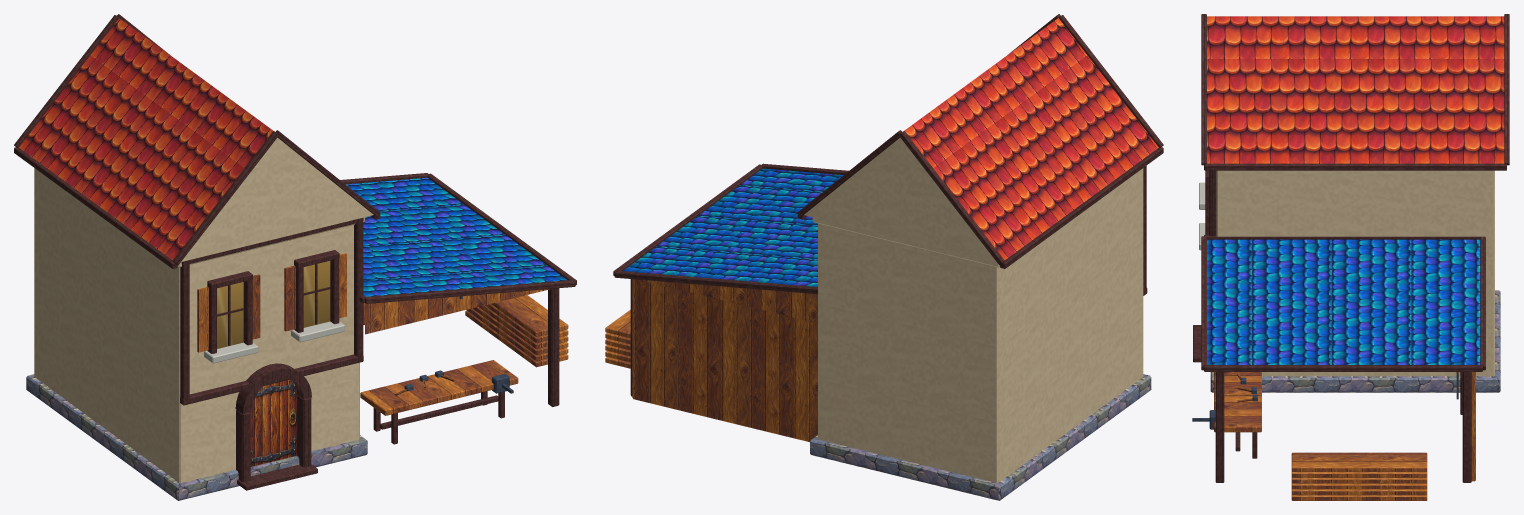
File: WorkshopHouse.fbx
3 views of the same model, side by side, from view 1: azimuth 30°, elevation 25°; view 2: azimuth 150°, elevation 25°; view 3: azimuth 270°, elevation 25° (orthographic). The views are drawn at different scales.
Visible parts, largest first — view 1: Craftsman dwelling walls, Craftsman dwelling roof, Attached carpentry shed roof, Craftsman dwelling foundation, Workshop bench top, Heavy oak entrance.003, Attached carpentry shed roof gable ends, Attached carpentry shed roof verge, Glass pane.027, Eaves fascia.012, Load-bearing arch voussoirs.003, Glass pane.026 (+21 smaller); view 2: Craftsman dwelling walls, Craftsman dwelling roof, Carpentry workshop rear wall, Attached carpentry shed roof, Craftsman dwelling foundation, Attached carpentry shed roof gable ends, Attached carpentry shed roof verge.001, Eaves fascia.012, Gable bargeboard.022, Attached carpentry shed roof eave.001, Craftsman dwelling cornice, Gable bargeboard.020 (+1 smaller); view 3: Craftsman dwelling roof, Attached carpentry shed roof, Craftsman dwelling walls, Craftsman dwelling foundation, Seasoned carpentry stock.005, Eaves fascia.013, Workshop bench top, Attached carpentry shed roof eave.001, Attached carpentry shed roof eave, Carpentry shed roof post.001, Carpentry shed roof post, Seasoned carpentry stock.001 (+10 smaller).
Boxes of the visible parts, bbox=[...] form: Craftsman dwelling walls: bbox=[34, 168, 359, 482]; Craftsman dwelling roof: bbox=[19, 18, 373, 261]; Attached carpentry shed roof: bbox=[346, 177, 567, 296]; Craftsman dwelling foundation: bbox=[26, 374, 367, 500]; Workshop bench top: bbox=[360, 360, 518, 415]; Heavy oak entrance.003: bbox=[250, 379, 297, 466]; Attached carpentry shed roof gable ends: bbox=[365, 289, 550, 334]; Attached carpentry shed roof verge: bbox=[364, 280, 575, 303]; Glass pane.027: bbox=[303, 261, 330, 327]; Eaves fascia.012: bbox=[14, 147, 177, 268]; Load-bearing arch voussoirs.003: bbox=[235, 363, 311, 414]; Glass pane.026: bbox=[217, 282, 243, 348]; Craftsman dwelling walls: bbox=[818, 168, 1143, 482]; Craftsman dwelling roof: bbox=[804, 18, 1158, 261]; Carpentry workshop rear wall: bbox=[632, 279, 817, 442]; Attached carpentry shed roof: bbox=[622, 168, 843, 286]; Craftsman dwelling foundation: bbox=[810, 374, 1151, 500]; Attached carpentry shed roof gable ends: bbox=[639, 279, 817, 323]; Attached carpentry shed roof verge.001: bbox=[614, 270, 817, 294]; Eaves fascia.012: bbox=[1000, 147, 1163, 268]; Gable bargeboard.022: bbox=[899, 131, 1004, 265]; Attached carpentry shed roof eave.001: bbox=[613, 164, 762, 275]; Craftsman dwelling cornice: bbox=[812, 217, 999, 267]; Gable bargeboard.020: bbox=[1059, 15, 1163, 147]; Craftsman dwelling roof: bbox=[1207, 16, 1504, 163]; Attached carpentry shed roof: bbox=[1207, 239, 1480, 364]; Craftsman dwelling walls: bbox=[1216, 170, 1494, 376]; Craftsman dwelling foundation: bbox=[1210, 290, 1500, 392]; Seasoned carpentry stock.005: bbox=[1291, 452, 1427, 471]; Eaves fascia.013: bbox=[1204, 163, 1506, 170]; Workshop bench top: bbox=[1214, 372, 1261, 432]; Attached carpentry shed roof eave.001: bbox=[1204, 365, 1482, 371]; Attached carpentry shed roof eave: bbox=[1204, 234, 1482, 239]; Carpentry shed roof post.001: bbox=[1462, 372, 1471, 482]; Carpentry shed roof post: bbox=[1215, 372, 1224, 482]; Seasoned carpentry stock.001: bbox=[1291, 489, 1427, 495].
Bounding box in the file's own units: 1223 × 924 × 797.
